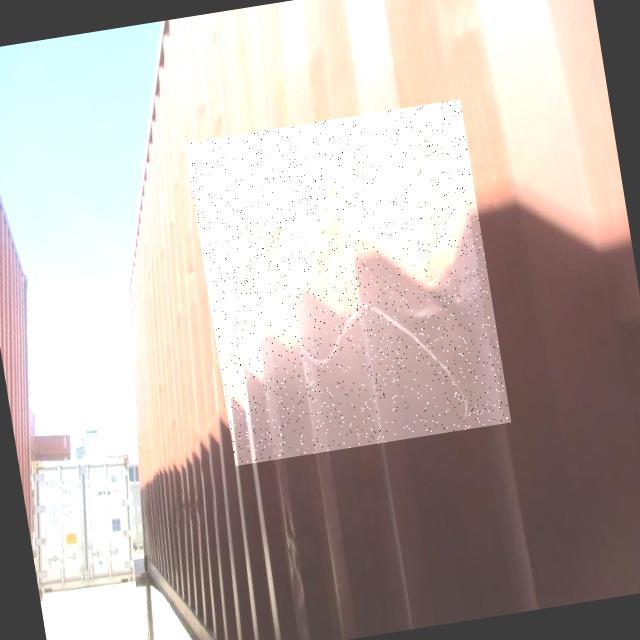Dent: (185, 99, 512, 466)
